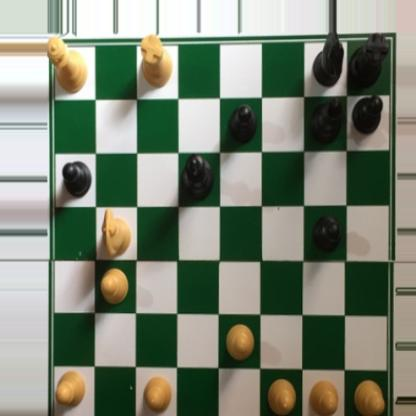black-bishop: (305, 95, 342, 142)
black-king: (179, 151, 216, 200)
black-knight: (313, 33, 346, 91)
black-pawn: (351, 90, 385, 133), (225, 103, 257, 145), (60, 158, 92, 197), (310, 215, 341, 253)
black-rook: (346, 33, 388, 90)
white-knight: (98, 205, 132, 258)
white-pawn: (54, 365, 87, 408), (224, 317, 255, 360), (307, 378, 341, 416), (99, 266, 129, 308), (263, 378, 296, 416), (352, 380, 384, 416), (143, 376, 172, 414)
white-queen: (47, 33, 88, 93)
white-rook: (135, 33, 172, 90)
